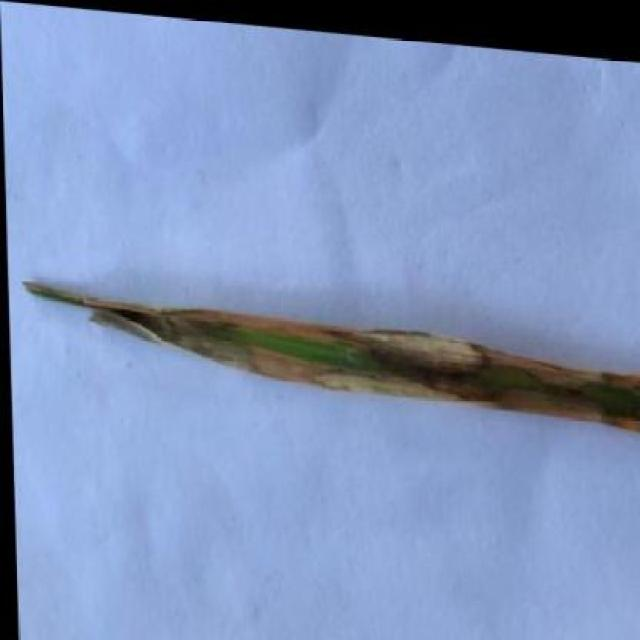Brown_Spot: (9, 268, 640, 426)
